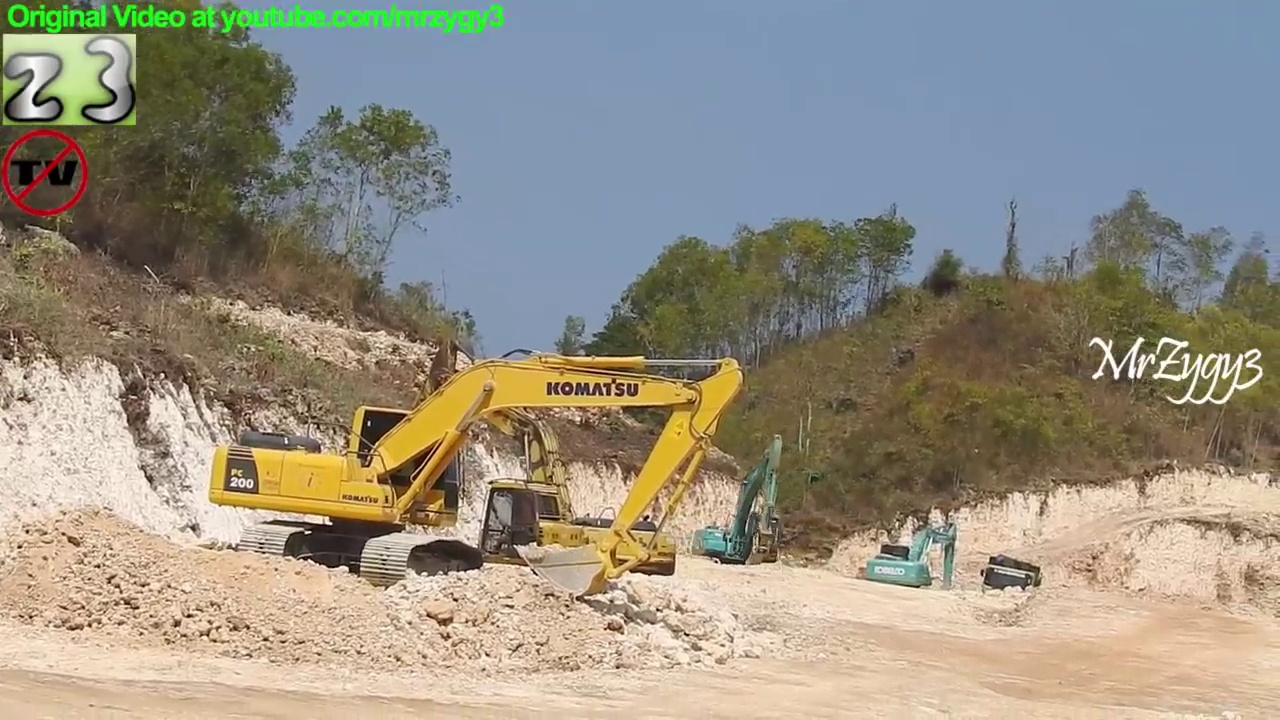excavator: (200, 344, 751, 607), (381, 340, 678, 600), (689, 428, 799, 576), (861, 514, 962, 612)
truck: (977, 550, 1050, 626)
